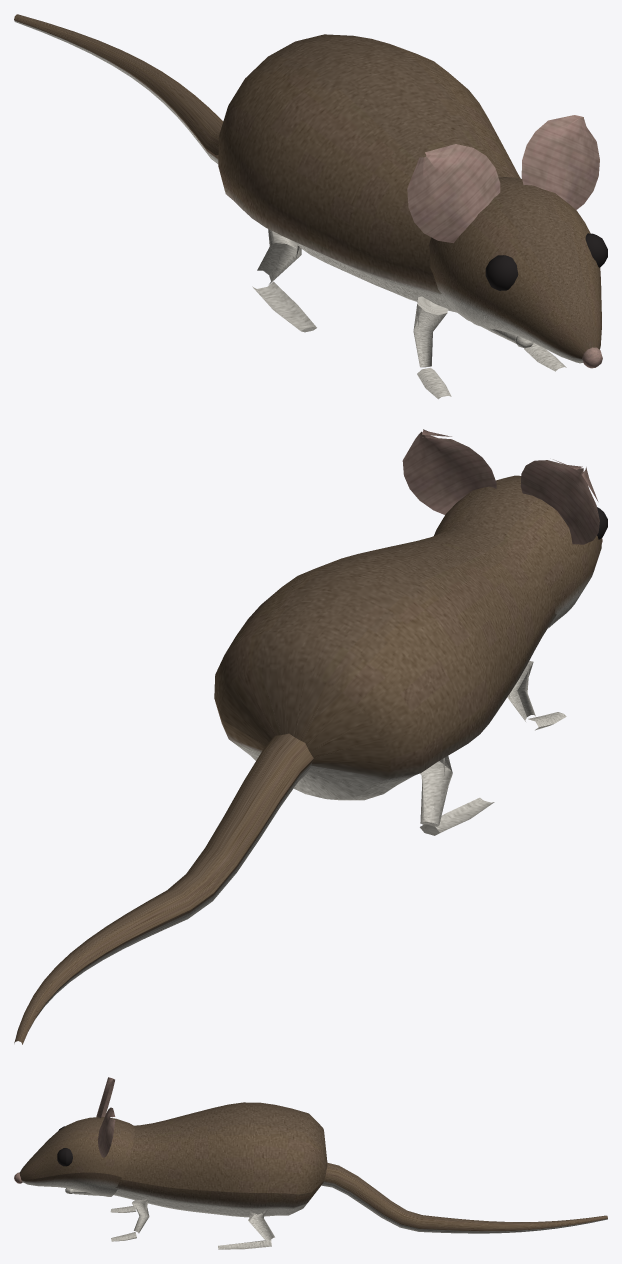
The model's file is mouse.glb.
3 views of the same model, one above another, from view 1: azimuth 30°, elevation 25°; view 2: azimuth 150°, elevation 25°; view 3: azimuth 270°, elevation 25° (orthographic). The views are drawn at different scales.
Visible parts, largest first — view 1: body, head, head_skin, tail, leg_HR, leg_FR, eyes, leg_FL; view 2: body, tail, head_skin, head, leg_HR, leg_FR; view 3: body, head, tail, head_skin, leg_HL, leg_FL, eyes.
Boxes of the visible parts, box(x1,y1,x2,y2) form: body: box(218, 34, 520, 312); head: box(429, 177, 601, 363); head_skin: box(407, 115, 602, 368); tail: box(14, 14, 223, 163); leg_HR: box(252, 229, 316, 332); leg_FR: box(413, 296, 451, 399); eyes: box(485, 233, 607, 290); leg_FL: box(524, 343, 566, 371); body: box(214, 526, 556, 800); tail: box(14, 733, 313, 1044); head_skin: box(402, 429, 602, 544); head: box(434, 475, 601, 628); leg_HR: box(419, 756, 494, 835); leg_FR: box(507, 661, 566, 730); body: box(114, 1102, 327, 1217); head: box(19, 1117, 135, 1196); tail: box(321, 1162, 607, 1233); head_skin: box(14, 1077, 115, 1183); leg_HL: box(218, 1209, 274, 1249); leg_FL: box(111, 1199, 149, 1241); eyes: box(57, 1126, 72, 1166).
Bounding box in the file's own units: 0.043 × 0.046 × 0.1895.
3 materials, 2 textured.
